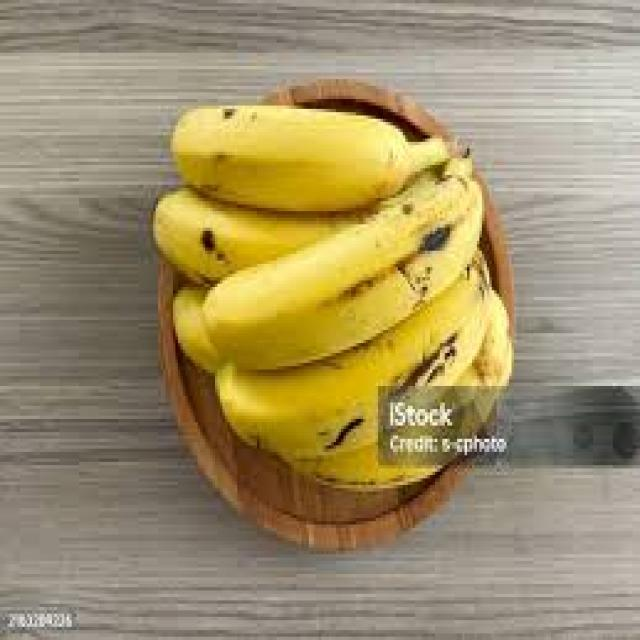pisang: (164, 81, 491, 480)
